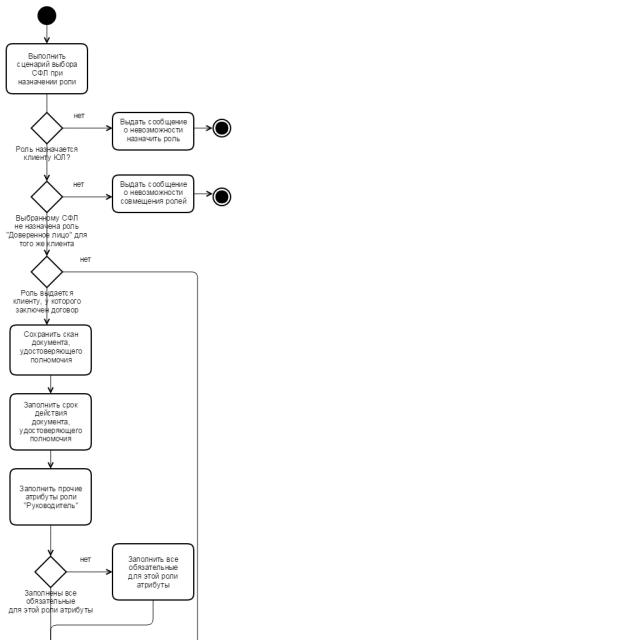arrow: (63, 194, 112, 202), (63, 125, 113, 132), (66, 570, 112, 577), (43, 289, 51, 325), (44, 144, 51, 182), (45, 213, 50, 257), (193, 125, 213, 133), (48, 526, 53, 556), (195, 190, 213, 198), (47, 452, 55, 469), (47, 375, 54, 394), (43, 26, 50, 43)
circle: (210, 185, 234, 209), (212, 118, 232, 138), (38, 7, 56, 25)
diamond: (30, 255, 64, 289), (34, 556, 67, 589), (31, 112, 63, 145), (30, 181, 63, 213)
rectangle: (112, 544, 194, 600), (10, 469, 91, 525), (10, 394, 91, 450), (6, 44, 88, 94), (10, 325, 91, 375), (112, 112, 194, 150), (112, 175, 194, 213)
text_region: (6, 214, 89, 249), (8, 590, 95, 614), (13, 289, 81, 314), (16, 145, 77, 162), (79, 556, 93, 565), (79, 256, 93, 264), (72, 113, 86, 120), (73, 182, 85, 189)
